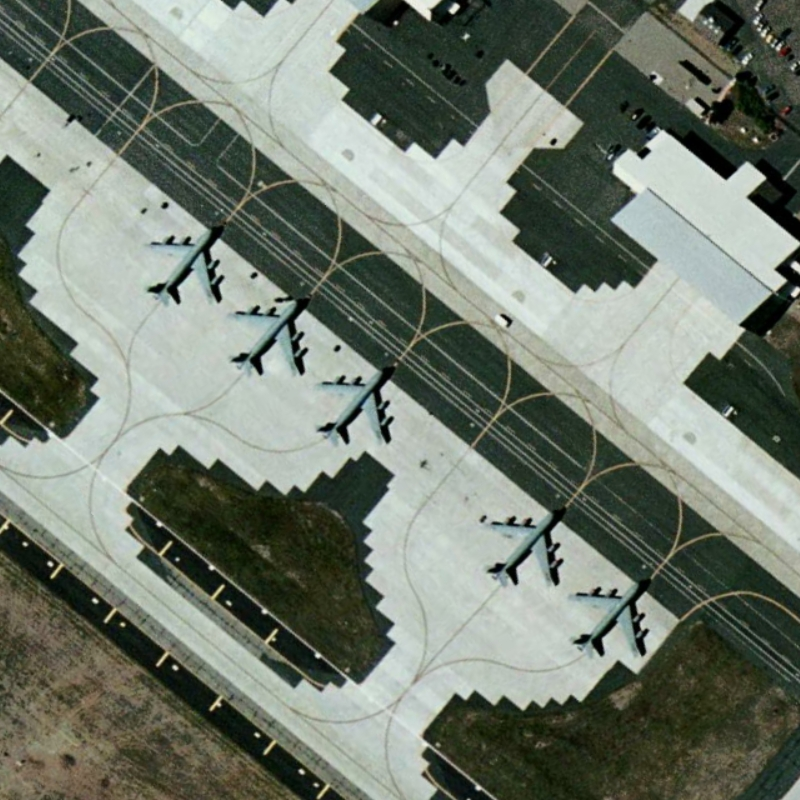A14: (478, 487, 574, 600), (134, 212, 238, 315), (311, 354, 406, 452), (571, 567, 662, 668), (228, 291, 317, 387)
